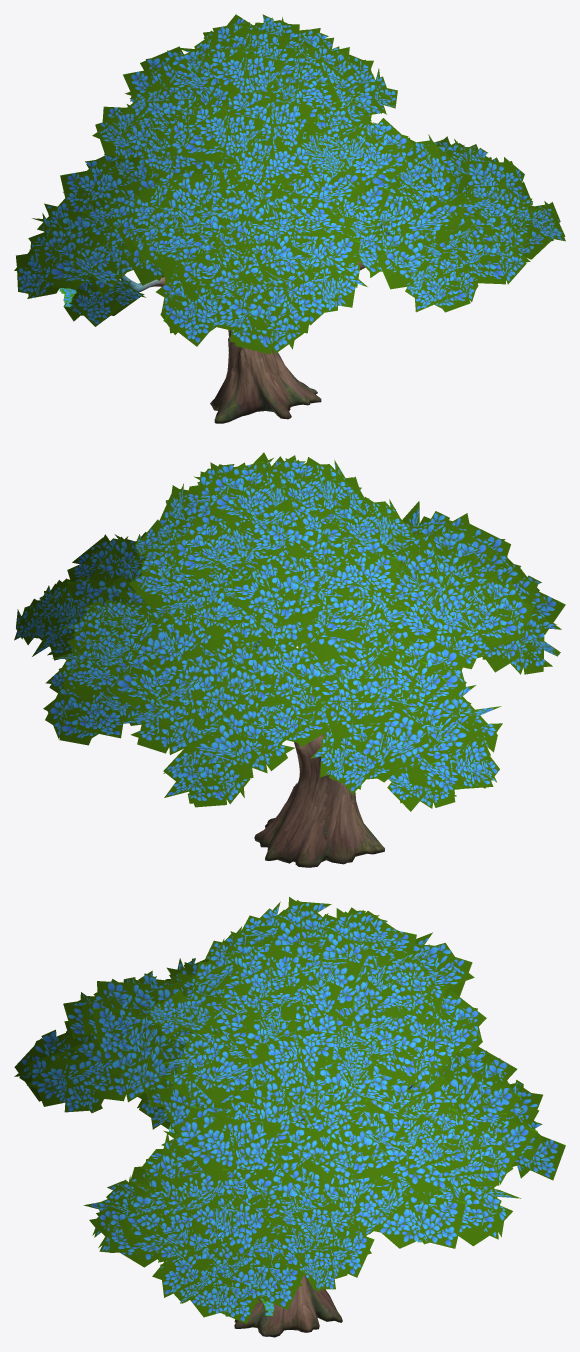
The model's file is Homeworld_Exterior_Xm_Plant_Tree_Qqstyle_01_Lod0.fbx.
The picture shows the model from 3 angles, top to bottom: view 1: azimuth 30°, elevation 25°; view 2: azimuth 150°, elevation 25°; view 3: azimuth 270°, elevation 25°; orthographic projection. The views are drawn at different scales.
Parts seen in each view (by area): view 1: Homeworld_Exterior_Xm_Plant_Tree_Qqstyle_01_Leaf_Lod0, Homeworld_Exterior_Xm_Plant_Tree_Qqstyle_01_Bark_Lod0; view 2: Homeworld_Exterior_Xm_Plant_Tree_Qqstyle_01_Leaf_Lod0, Homeworld_Exterior_Xm_Plant_Tree_Qqstyle_01_Bark_Lod0; view 3: Homeworld_Exterior_Xm_Plant_Tree_Qqstyle_01_Leaf_Lod0, Homeworld_Exterior_Xm_Plant_Tree_Qqstyle_01_Bark_Lod0.
Part boxes in pixels (bbox=[...]): Homeworld_Exterior_Xm_Plant_Tree_Qqstyle_01_Leaf_Lod0: bbox=[14, 14, 565, 354]; Homeworld_Exterior_Xm_Plant_Tree_Qqstyle_01_Bark_Lod0: bbox=[120, 222, 390, 423]; Homeworld_Exterior_Xm_Plant_Tree_Qqstyle_01_Leaf_Lod0: bbox=[14, 452, 565, 811]; Homeworld_Exterior_Xm_Plant_Tree_Qqstyle_01_Bark_Lod0: bbox=[166, 610, 401, 867]; Homeworld_Exterior_Xm_Plant_Tree_Qqstyle_01_Leaf_Lod0: bbox=[14, 897, 565, 1323]; Homeworld_Exterior_Xm_Plant_Tree_Qqstyle_01_Bark_Lod0: bbox=[234, 1083, 413, 1337].
Bounding box in the file's own units: 17.64 × 12.58 × 15.3.
Materials: 3 (3 with a texture image).
